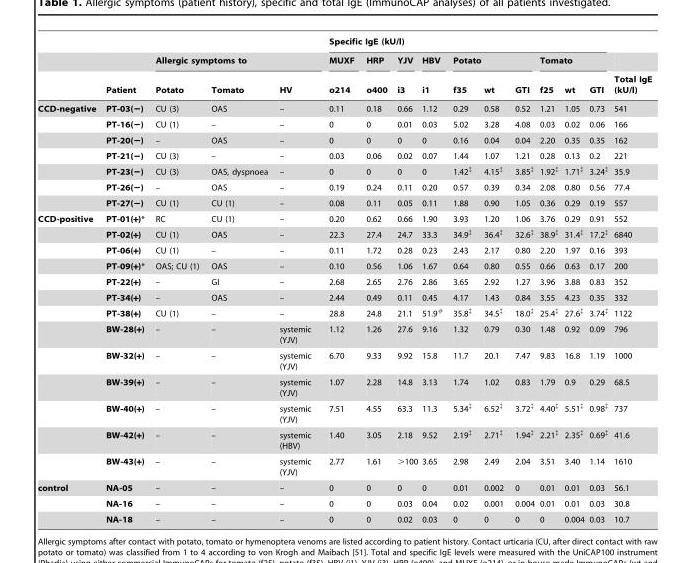table: (37, 36, 651, 523)
table column: (204, 36, 272, 523), (37, 36, 100, 523), (149, 36, 204, 523), (100, 36, 149, 523), (272, 36, 319, 523), (610, 36, 651, 523), (319, 36, 359, 523), (359, 36, 391, 523), (477, 36, 508, 523), (447, 36, 477, 523), (391, 36, 419, 523), (419, 36, 447, 523), (508, 36, 536, 523), (560, 36, 586, 523), (536, 36, 560, 523), (586, 36, 610, 523)
table column header: (37, 36, 651, 99)
table row: (37, 69, 651, 99), (37, 372, 651, 399), (37, 425, 651, 452), (37, 452, 651, 479), (37, 320, 651, 346), (37, 346, 651, 372), (37, 399, 651, 425), (37, 50, 651, 69), (37, 99, 651, 116), (37, 162, 651, 179), (37, 116, 651, 132), (37, 179, 651, 195), (37, 209, 651, 225), (37, 225, 651, 241), (37, 241, 651, 257), (37, 257, 651, 273), (37, 288, 651, 304), (37, 304, 651, 320), (37, 479, 651, 495), (37, 495, 651, 511), (37, 132, 651, 147), (37, 147, 651, 162), (37, 273, 651, 288), (37, 36, 651, 50), (37, 195, 651, 209), (37, 511, 651, 523)
table spanning cell: (37, 209, 100, 479), (37, 99, 100, 209), (319, 36, 610, 50), (149, 50, 319, 69), (100, 36, 149, 99), (37, 479, 100, 523), (610, 36, 651, 99), (319, 50, 359, 99), (447, 50, 536, 69), (359, 50, 391, 99), (536, 50, 610, 69), (391, 50, 419, 99), (419, 50, 447, 99)
